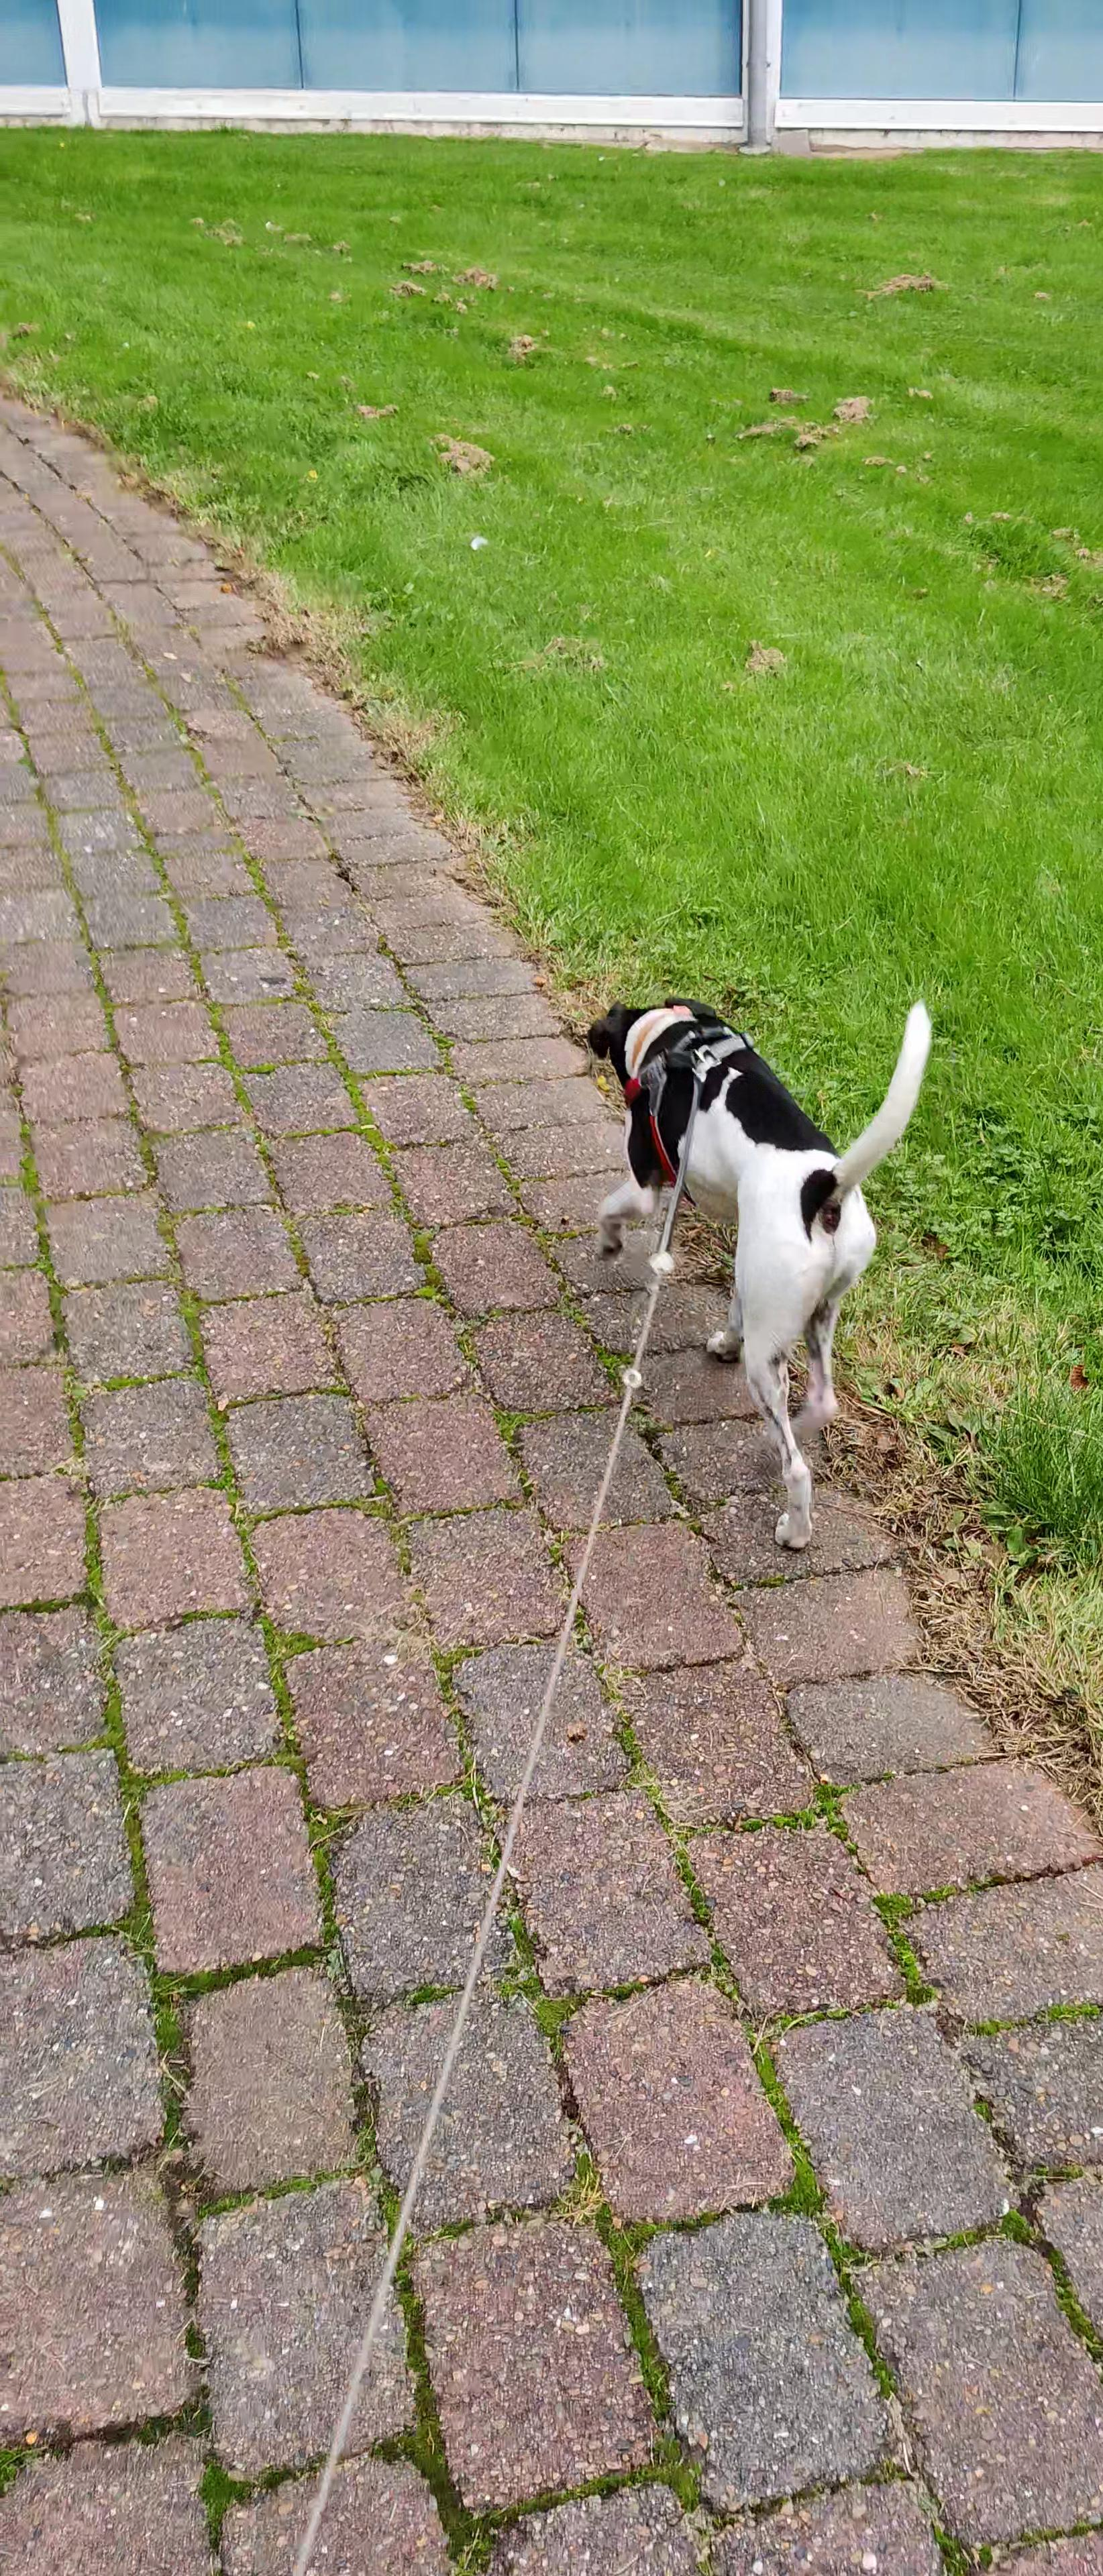Dog: (572, 981, 942, 1559)
